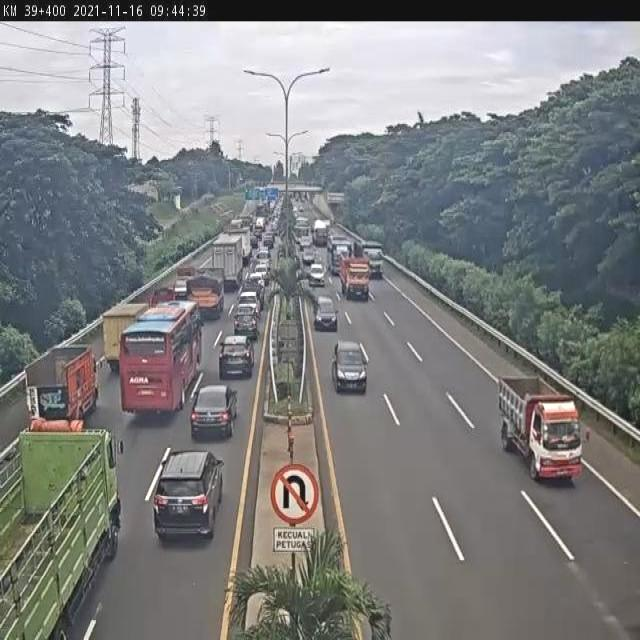Bus: (123, 304, 207, 421)
Car: (154, 451, 228, 553), (191, 388, 240, 442), (331, 341, 367, 398), (219, 332, 252, 380), (314, 294, 340, 332), (236, 316, 258, 343), (241, 282, 265, 304), (239, 292, 260, 314), (309, 264, 325, 288), (304, 249, 316, 268), (244, 272, 264, 282)
Truck: (0, 427, 124, 640), (490, 366, 592, 491), (25, 346, 98, 438), (102, 297, 148, 370), (189, 267, 225, 321), (345, 258, 371, 306), (213, 235, 239, 282), (360, 234, 386, 278), (329, 232, 353, 277)
